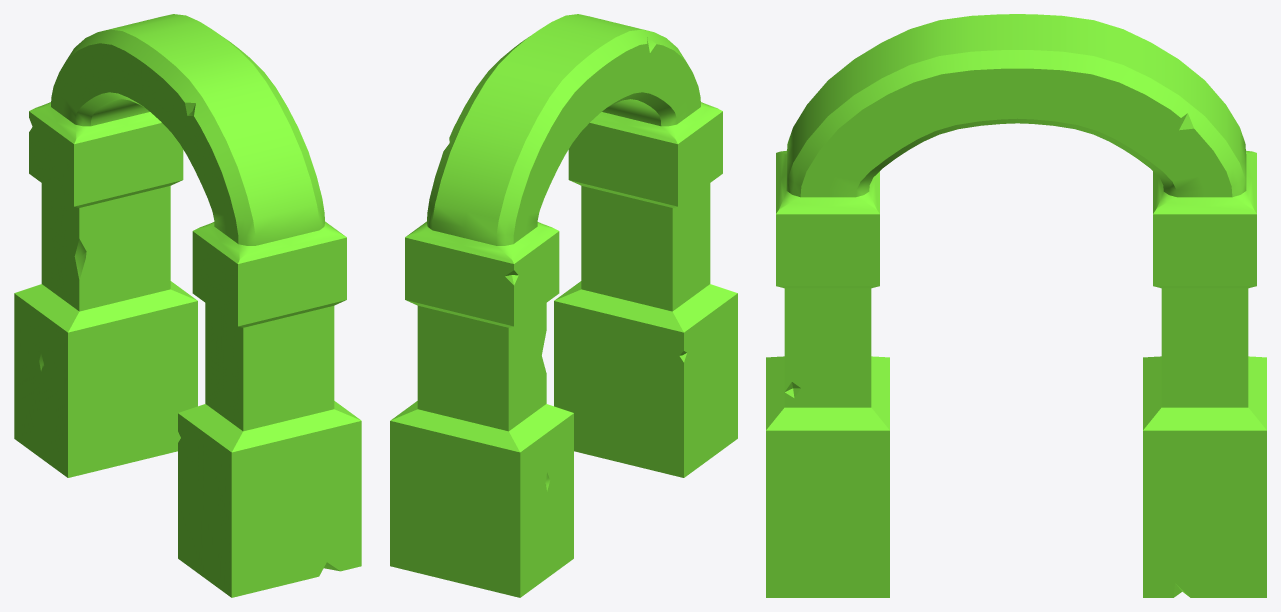
The model's file is Gate.fbx.
3 renders of one model, left to right at view 1: azimuth 30°, elevation 25°; view 2: azimuth 150°, elevation 25°; view 3: azimuth 270°, elevation 25°, orthographic. The views are drawn at different scales.
Parts seen in each view (by area): view 1: Cube.029; view 2: Cube.029; view 3: Cube.029.
Part boxes in pixels (x1=…): Cube.029: x1=14, y1=14, x2=361, y2=597; Cube.029: x1=390, y1=14, x2=737, y2=597; Cube.029: x1=766, y1=14, x2=1266, y2=597.
Size of the model in its own units: 87.38 by 295 by 253.
